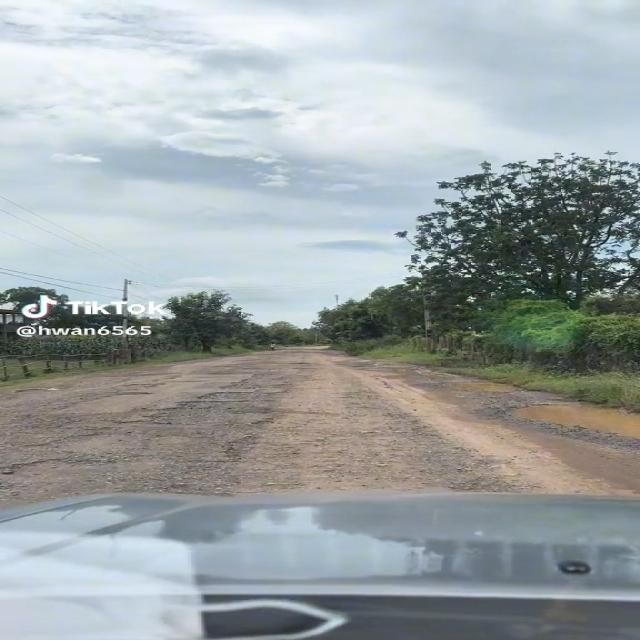Poth-hole: (110, 395, 203, 443)
